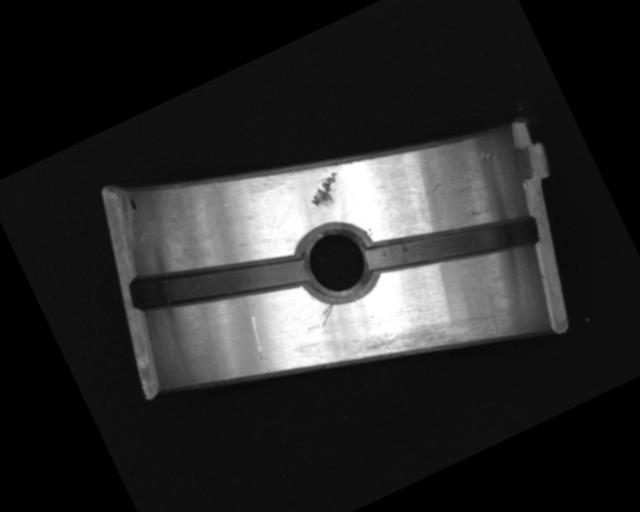blot: (126, 193, 139, 213)
bruise: (303, 170, 350, 214), (423, 178, 446, 197), (477, 147, 494, 162)
gap: (128, 213, 309, 352), (364, 182, 543, 310)
hole: (287, 214, 389, 315)
nick: (242, 314, 281, 376), (316, 303, 340, 326)
scratch: (344, 280, 508, 400)
